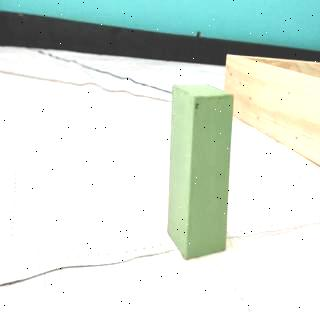greenbox: (167, 80, 236, 262)
